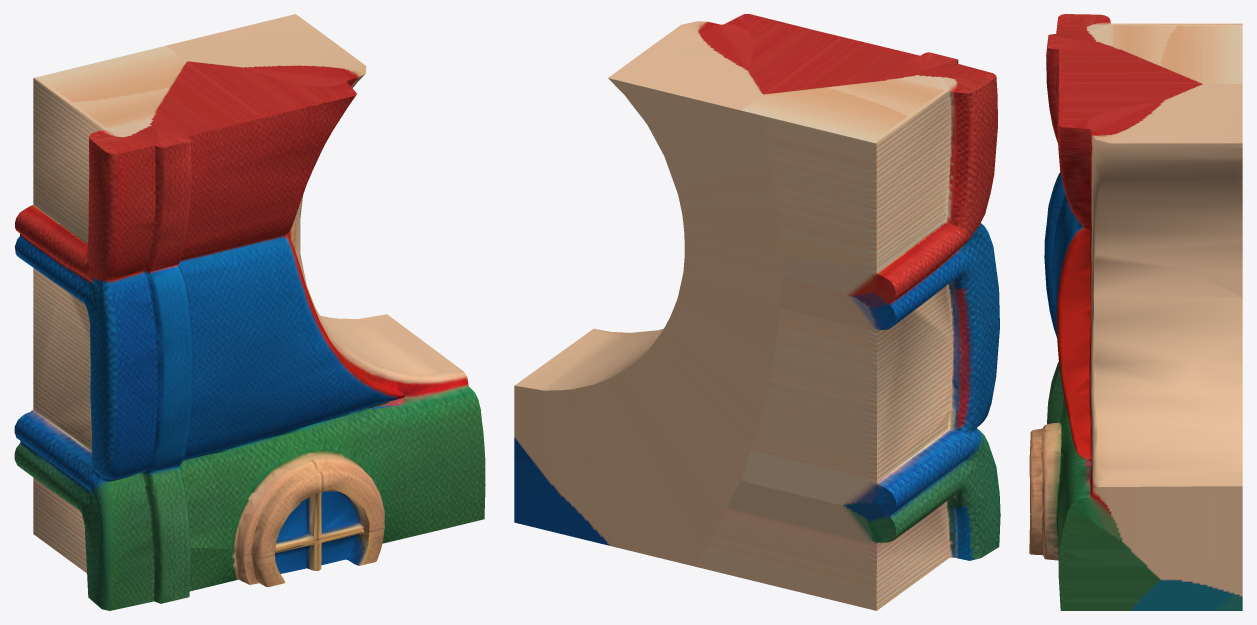
Rendered from 5-upper-walls-front-left.fbx.
3 views of the same model, side by side, from view 1: azimuth 30°, elevation 25°; view 2: azimuth 150°, elevation 25°; view 3: azimuth 270°, elevation 25° (orthographic). The views are drawn at different scales.
Parts seen in each view (by area): view 1: upper-walls-front-left; view 2: upper-walls-front-left; view 3: upper-walls-front-left.
Part boxes in pixels (<box>): upper-walls-front-left: <box>14,14,485,610</box>; upper-walls-front-left: <box>514,14,1000,610</box>; upper-walls-front-left: <box>1029,14,1242,610</box>.
Size of the model in its own units: 6106 by 7017 by 3186.
Materials: 1 (1 with a texture image).
